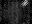person: (22, 1, 28, 7)
